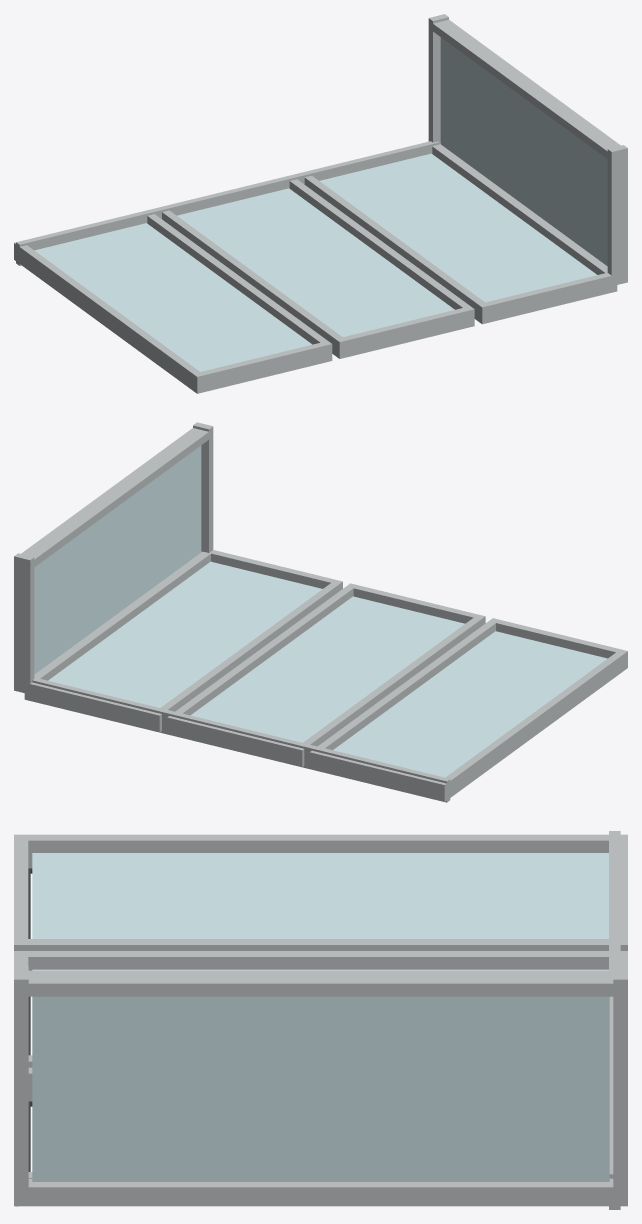
File: glass-window.glb
3 renders of one model, top to bottom at view 1: azimuth 30°, elevation 25°; view 2: azimuth 150°, elevation 25°; view 3: azimuth 270°, elevation 25°, orthographic. The views are drawn at different scales.
Parts seen in each view (by area): view 1: main-glass0, main-glass1, main-glass2, return-glass, sill, main0-left, return-back, main1-top, main0-top, main2-top, return-top, main1-right (+5 smaller); view 2: return-glass, main-glass2, main-glass0, main-glass1, main0-left, return-back, sill, return-bottom, main0-bottom, main1-bottom, main2-bottom, main1-right (+8 smaller); view 3: return-glass, main-glass0, return-back, return-front, main0-left, main1-left, main0-right, main2-right, return-top, return-bottom, sill, main0-top (+2 smaller).
Part boxes in pixels (x1=…): main-glass0: x1=34, y1=223, x2=311, y2=371; main-glass1: x1=177, y1=188, x2=454, y2=336; main-glass2: x1=320, y1=153, x2=596, y2=302; return-glass: x1=440, y1=37, x2=607, y2=265; sill: x1=16, y1=141, x2=439, y2=265; main0-left: x1=18, y1=245, x2=199, y2=390; return-back: x1=433, y1=20, x2=620, y2=158; main1-top: x1=335, y1=306, x2=474, y2=358; main0-top: x1=193, y1=341, x2=332, y2=393; main2-top: x1=478, y1=272, x2=617, y2=324; return-top: x1=607, y1=145, x2=627, y2=284; main1-right: x1=289, y1=179, x2=469, y2=309; return-glass: x1=34, y1=445, x2=201, y2=674; main-glass2: x1=48, y1=561, x2=322, y2=707; main-glass0: x1=333, y1=631, x2=607, y2=777; main-glass1: x1=190, y1=596, x2=464, y2=742; main0-left: x1=445, y1=652, x2=623, y2=798; return-back: x1=21, y1=428, x2=208, y2=567; sill: x1=32, y1=677, x2=450, y2=802; return-bottom: x1=14, y1=553, x2=34, y2=692; main0-bottom: x1=309, y1=750, x2=448, y2=801; main1-bottom: x1=167, y1=716, x2=304, y2=767; main2-bottom: x1=24, y1=682, x2=161, y2=732; main1-right: x1=175, y1=586, x2=353, y2=715; return-glass: x1=32, y1=996, x2=609, y2=1181; main-glass0: x1=32, y1=853, x2=608, y2=938; return-back: x1=28, y1=970, x2=613, y2=996; return-front: x1=28, y1=1178, x2=613, y2=1200; main0-left: x1=28, y1=834, x2=608, y2=868; main1-left: x1=28, y1=951, x2=608, y2=970; main0-right: x1=28, y1=939, x2=608, y2=950; main2-right: x1=28, y1=1172, x2=613, y2=1206; return-top: x1=14, y1=966, x2=28, y2=1204; return-bottom: x1=613, y1=966, x2=627, y2=1204; sill: x1=609, y1=831, x2=620, y2=1209; main0-top: x1=14, y1=834, x2=28, y2=950.
Size of the model in its own units: 3.19 by 1.01 by 2.35.
